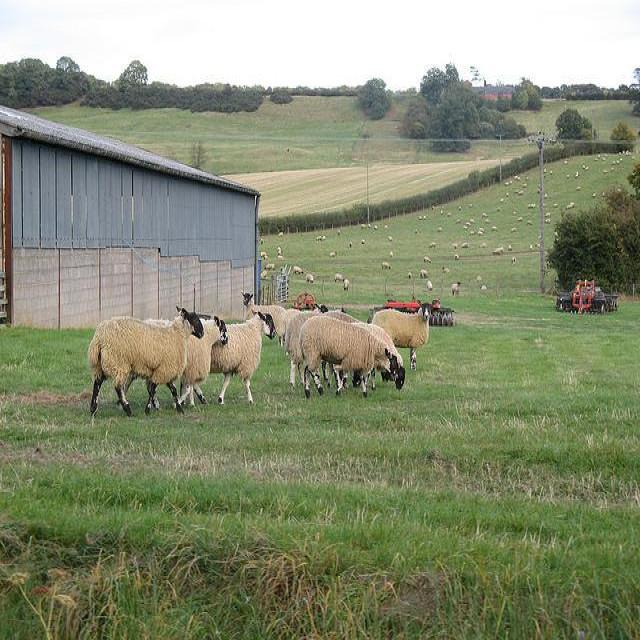Sheep: (90, 306, 207, 418), (287, 309, 409, 392), (299, 316, 399, 397), (211, 310, 276, 406), (178, 313, 230, 408), (373, 298, 439, 371), (241, 292, 286, 348)
